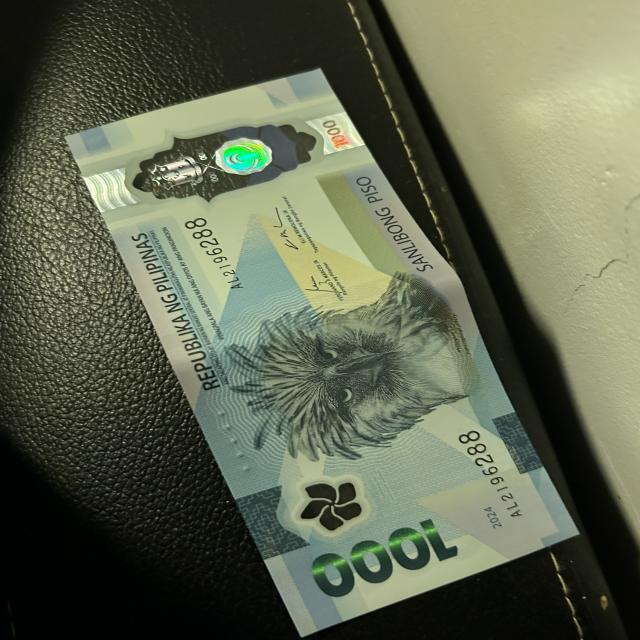clear_window: (114, 127, 359, 202)
eagle: (214, 310, 487, 446)
sampaguita: (300, 475, 369, 528)
